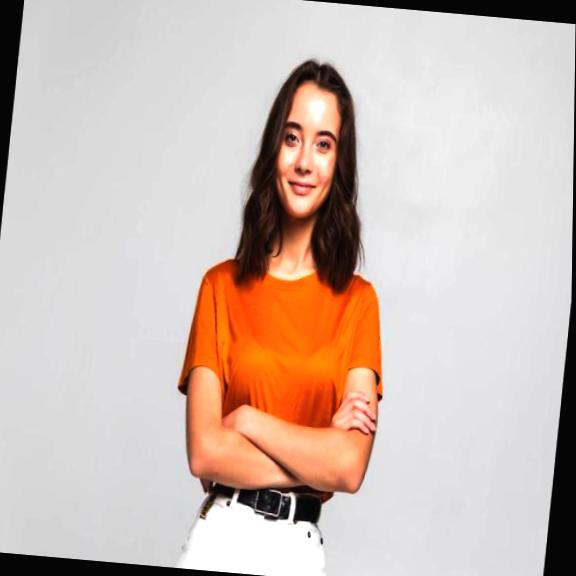no_safety_vest: (161, 244, 401, 520)
